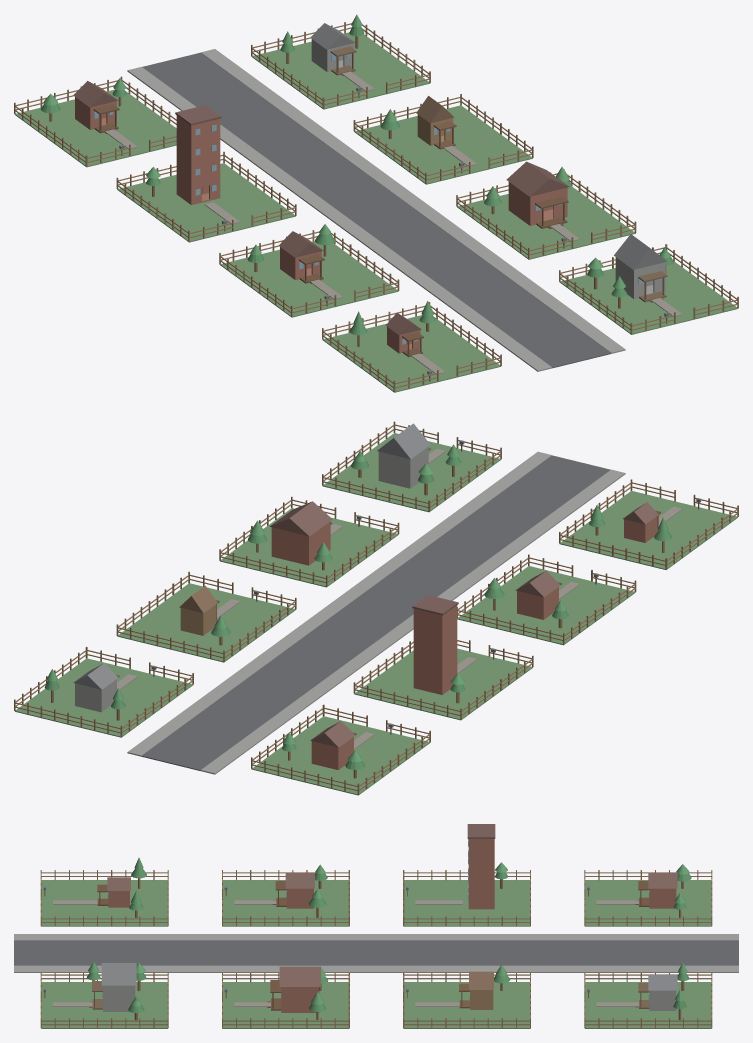
The model's file is street.glb.
3 renders of one model, top to bottom at view 1: azimuth 30°, elevation 25°; view 2: azimuth 150°, elevation 25°; view 3: azimuth 270°, elevation 25°, orthographic. The views are drawn at different scales.
Visible parts, largest first — view 1: street_0_0, street_0_2, street_0_1, street_0_23, street_0_415, street_0_341, street_0_566, street_0_180, street_0_489, street_0_100, street_0_257, street_0_315 (+8 smaller); view 2: street_0_0, street_0_2, street_0_1, street_0_23, street_0_415, street_0_566, street_0_180, street_0_489, street_0_341, street_0_100, street_0_257, street_0_317 (+8 smaller); view 3: street_0_0, street_0_1, street_0_2, street_0_341, street_0_415, street_0_23, street_0_489, street_0_180, street_0_566, street_0_100, street_0_257, street_0_316 (+14 smaller).
Boxes of the visible parts, box(x1,y1,x2,y2) form: street_0_0: box(142, 52, 611, 368); street_0_2: box(201, 49, 625, 353); street_0_1: box(127, 67, 551, 371); street_0_23: box(323, 315, 500, 392); street_0_415: box(354, 105, 532, 184); street_0_341: box(117, 163, 295, 242); street_0_566: box(251, 32, 430, 109); street_0_180: box(220, 241, 398, 317); street_0_489: box(15, 89, 176, 167); street_0_100: box(559, 261, 737, 334); street_0_257: box(457, 186, 635, 259); street_0_315: box(176, 115, 192, 204); street_0_0: box(141, 455, 610, 770); street_0_2: box(127, 451, 551, 756); street_0_1: box(201, 469, 625, 774); street_0_23: box(560, 491, 737, 569); street_0_415: box(117, 583, 295, 662); street_0_566: box(15, 658, 192, 737); street_0_180: box(457, 566, 635, 645); street_0_489: box(251, 716, 430, 795); street_0_341: box(354, 648, 532, 720); street_0_100: box(323, 433, 501, 512); street_0_257: box(220, 508, 398, 587); street_0_317: box(415, 609, 440, 694); street_0_0: box(14, 940, 738, 965); street_0_1: box(14, 934, 738, 940); street_0_2: box(14, 965, 738, 972); street_0_341: box(404, 880, 530, 926); street_0_415: box(403, 982, 530, 1028); street_0_23: box(41, 880, 167, 926); street_0_489: box(585, 880, 711, 926); street_0_180: box(222, 880, 348, 926); street_0_566: box(585, 982, 711, 1028); street_0_100: box(41, 982, 167, 1028); street_0_257: box(222, 982, 349, 1028); street_0_316: box(468, 839, 494, 908).
Bounding box in the file's own units: 29.09 × 6.68 × 60.
